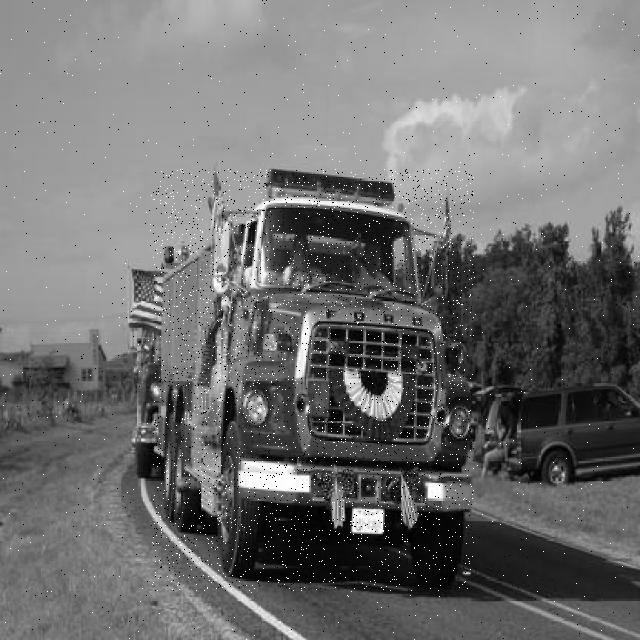Fire Truck: (153, 169, 474, 591)
